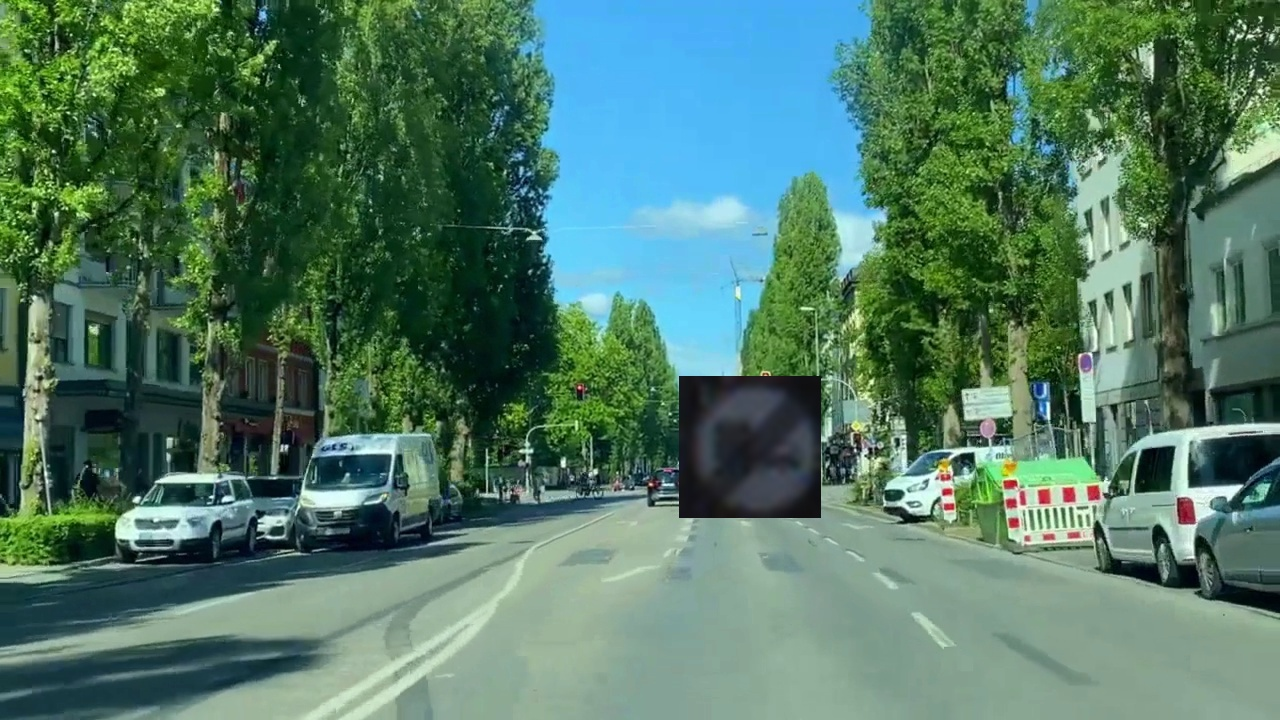End no pass >3.5t: (679, 376, 821, 518)
